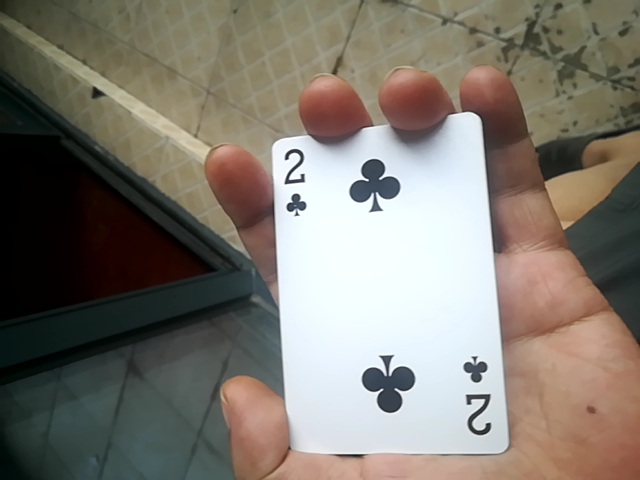mh 2: (264, 114, 514, 463)
